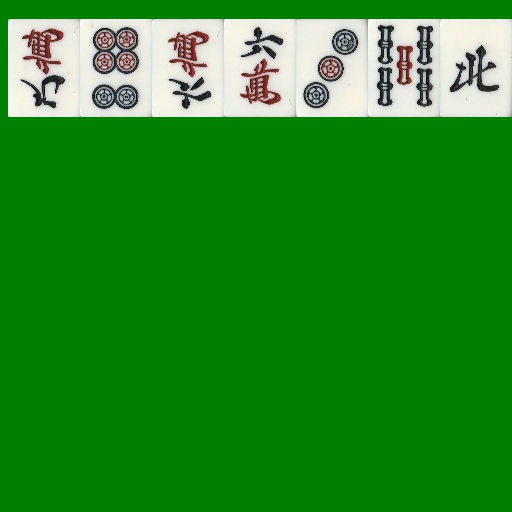3p: (296, 19, 368, 117)
5s: (368, 19, 440, 117)
6m: (152, 19, 224, 117), (224, 19, 296, 117)
6p: (80, 19, 152, 117)
9m: (8, 19, 80, 117)
north: (440, 19, 512, 117)
